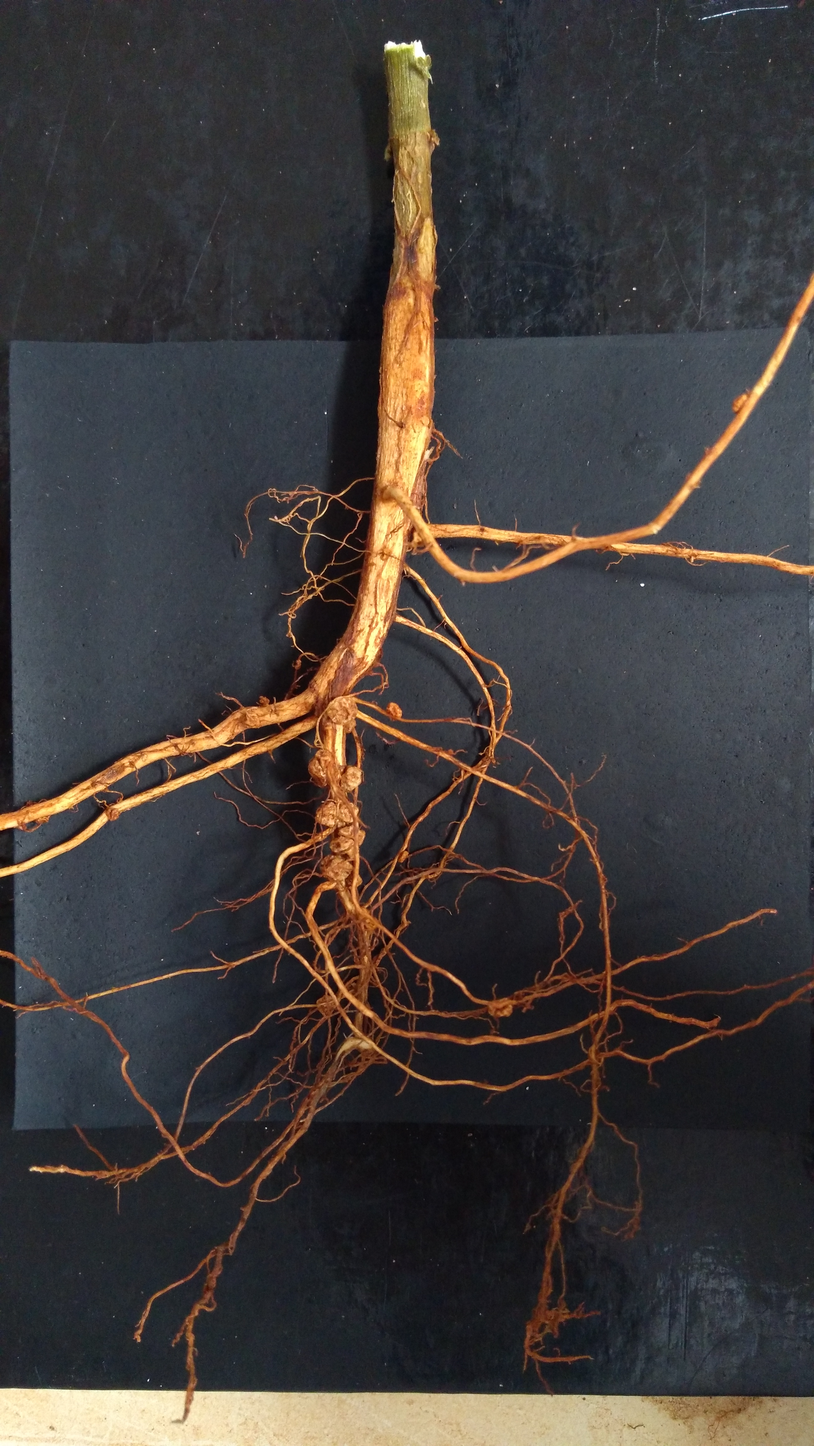nodule: (316, 852, 354, 883), (325, 695, 359, 725), (305, 749, 329, 790), (338, 764, 365, 795), (484, 996, 515, 1020), (312, 800, 336, 829), (327, 835, 360, 856), (336, 825, 367, 847), (314, 993, 338, 1018), (338, 801, 360, 825), (384, 702, 403, 722), (730, 393, 748, 414), (345, 872, 364, 889), (104, 807, 120, 822), (344, 719, 358, 735), (396, 850, 409, 863), (258, 694, 271, 707), (291, 659, 302, 670)
